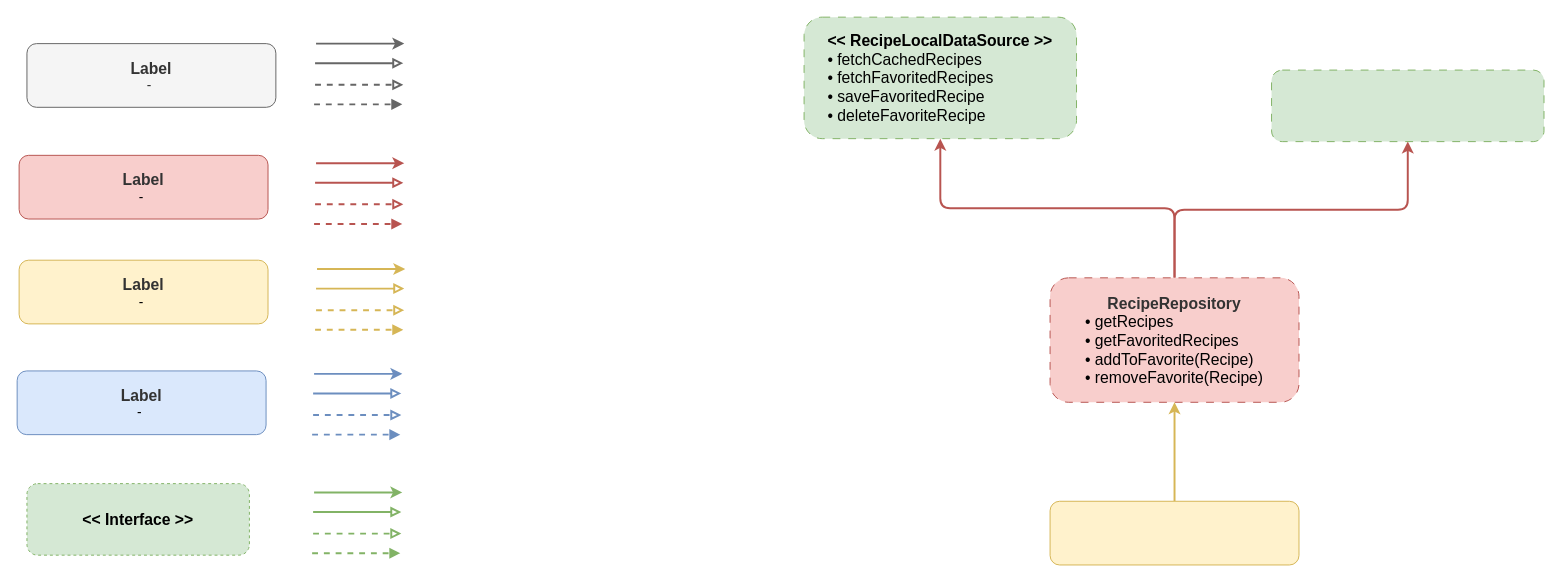
Some shapes in this 1561 by 582 pixel diagram are drawn without their labels. Here are the shapes that lost their labels. From the top down, the centre of each, then its label:
At pixel 1407 105: "<< RecipeRemoteDataSource >> • fetchRecipes".
At pixel 1174 532: "RecipesViewModel".
